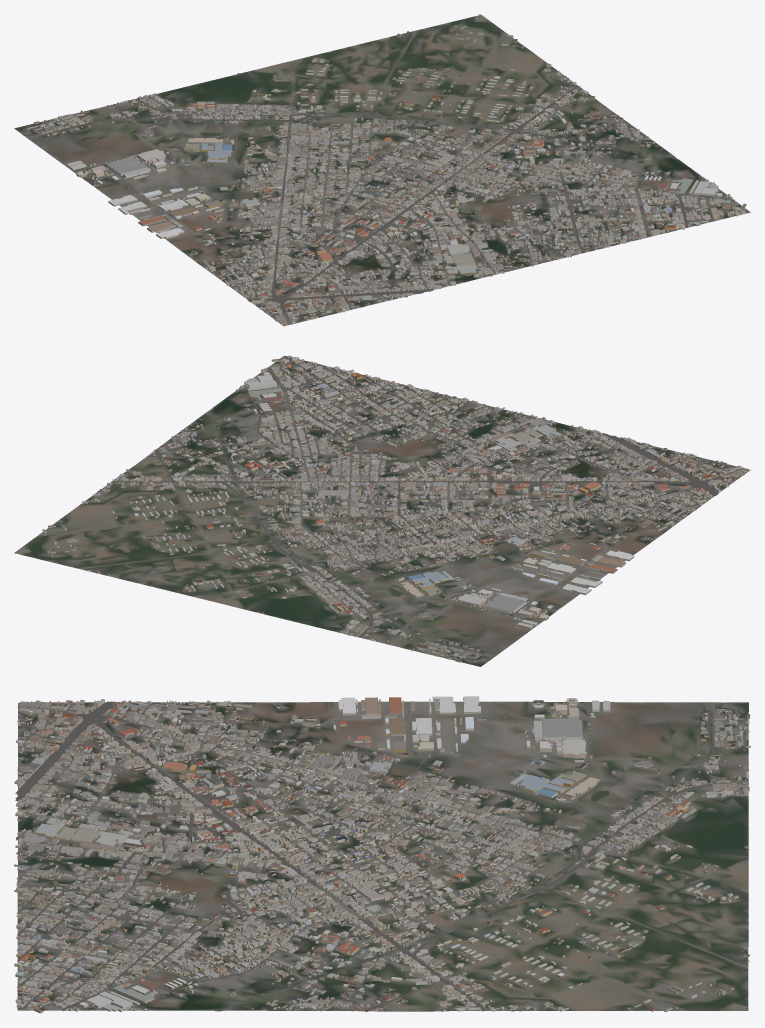
3 renders of one model, top to bottom at view 1: azimuth 30°, elevation 25°; view 2: azimuth 150°, elevation 25°; view 3: azimuth 270°, elevation 25°, orthographic. The views are drawn at different scales.
Visible parts, largest first — view 1: ground, buildings, roads; view 2: ground, buildings, roads; view 3: ground, buildings, roads.
Part boxes in pixels (<box>): ground: <box>14,14,750,326</box>; buildings: <box>26,14,746,325</box>; roads: <box>23,70,748,324</box>; ground: <box>14,355,750,666</box>; buildings: <box>15,355,749,662</box>; roads: <box>97,356,744,660</box>; ground: <box>17,701,748,1011</box>; buildings: <box>14,696,750,1013</box>; roads: <box>15,701,748,1011</box>.
Bounding box in the file's own units: 2854 × 32.23 × 2825.
